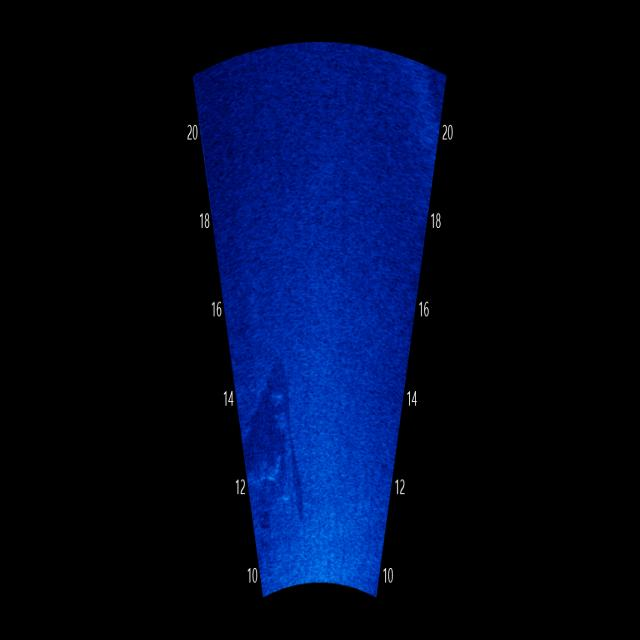triangle: (233, 321, 360, 546)
